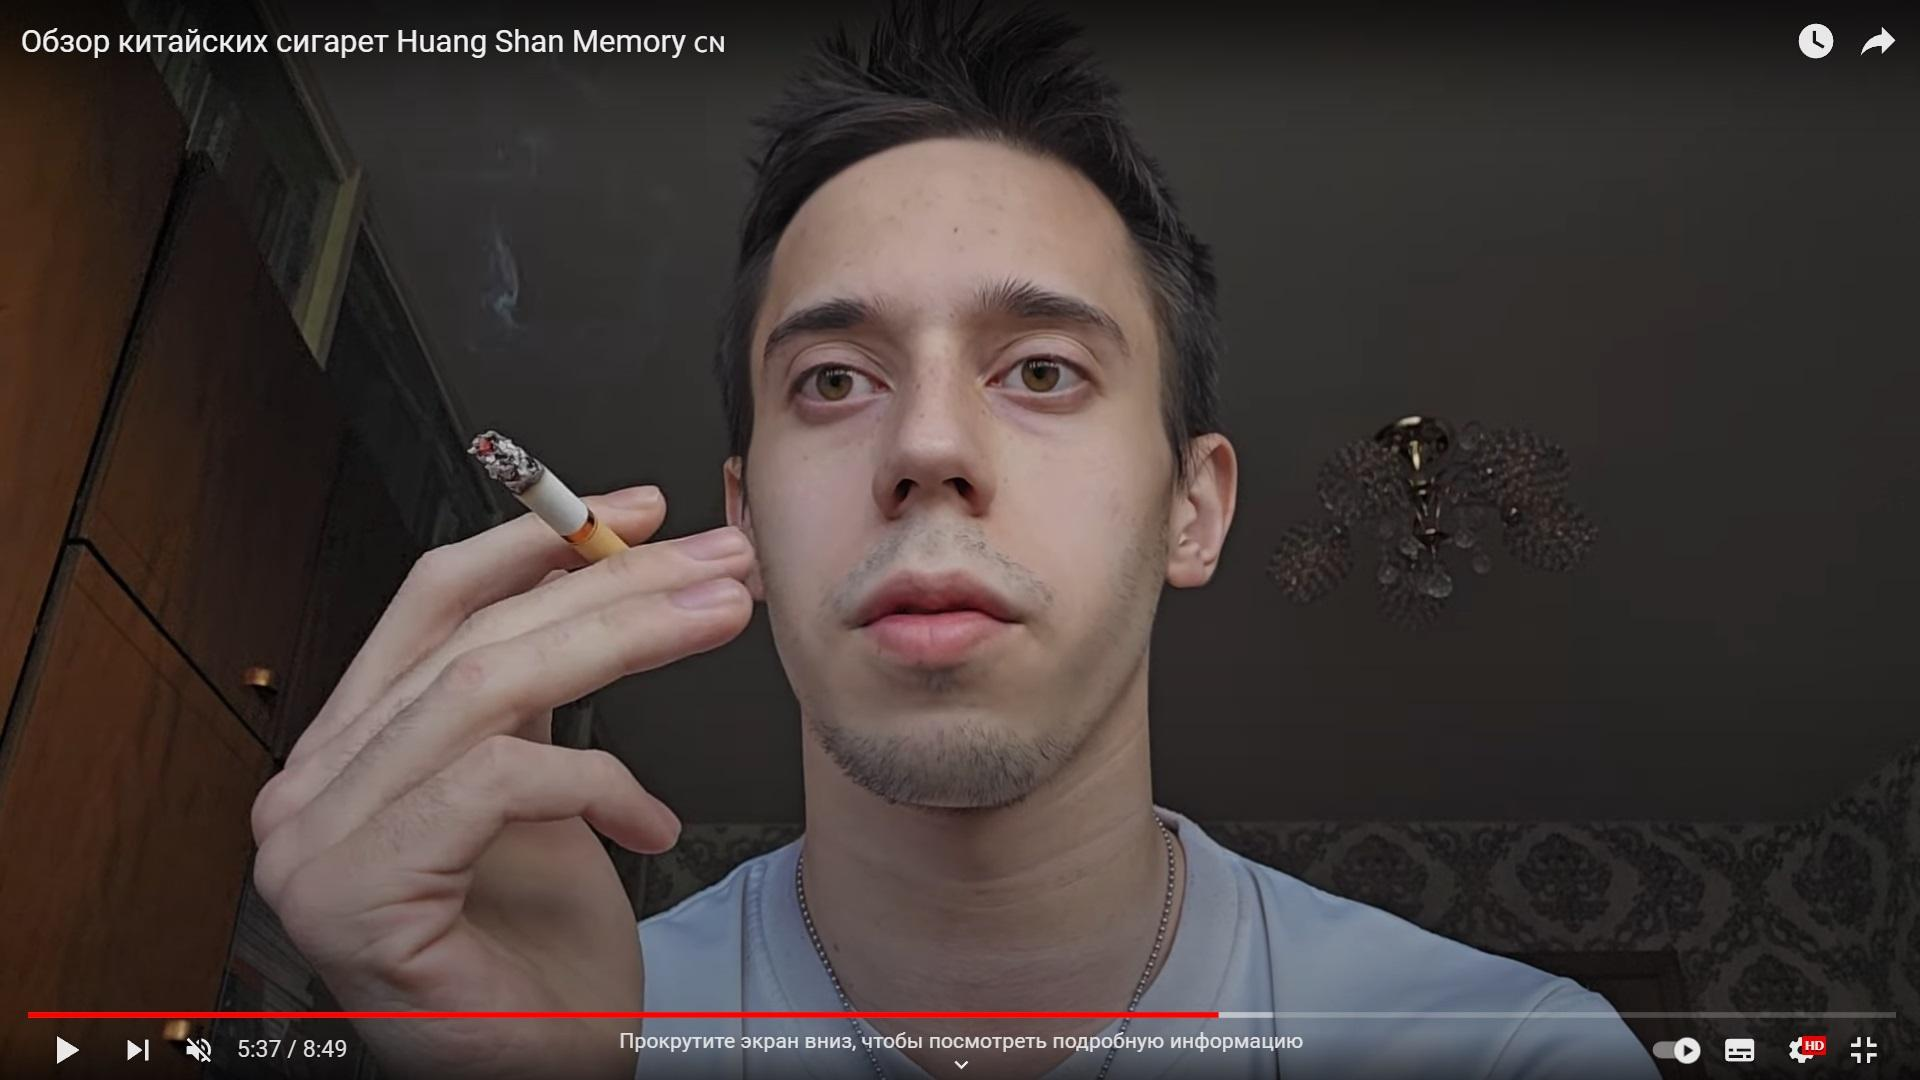cigarette: (468, 431, 626, 563)
